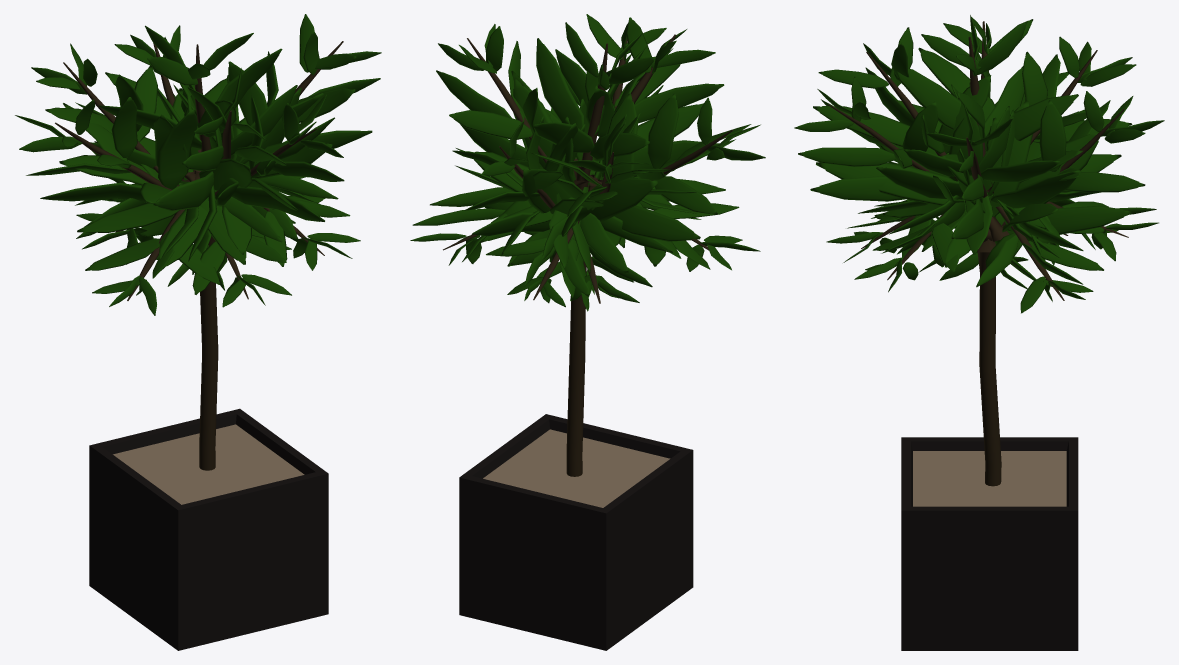
Rendered from KSR_Plant.fbx.
3 views of the same model, side by side, from view 1: azimuth 30°, elevation 25°; view 2: azimuth 150°, elevation 25°; view 3: azimuth 270°, elevation 25° (orthographic). The views are drawn at different scales.
Parts seen in each view (by area): view 1: Leaves, PlantPot, Soil, Wood; view 2: Leaves, PlantPot, Soil, Wood; view 3: Leaves, PlantPot, Soil, Wood.
Boxes of the visible parts, x1,y1,x2,y2 form: Leaves: [15, 14, 381, 315]; PlantPot: [89, 408, 328, 650]; Soil: [113, 424, 304, 504]; Wood: [55, 41, 343, 470]; Leaves: [410, 14, 765, 311]; PlantPot: [459, 414, 693, 650]; Soil: [483, 429, 670, 507]; Wood: [443, 34, 733, 476]; Leaves: [794, 15, 1164, 313]; PlantPot: [901, 437, 1078, 650]; Soil: [913, 451, 1066, 506]; Wood: [828, 21, 1128, 486].
Bounding box in the file's own units: 18.33 × 28.74 × 16.87.
